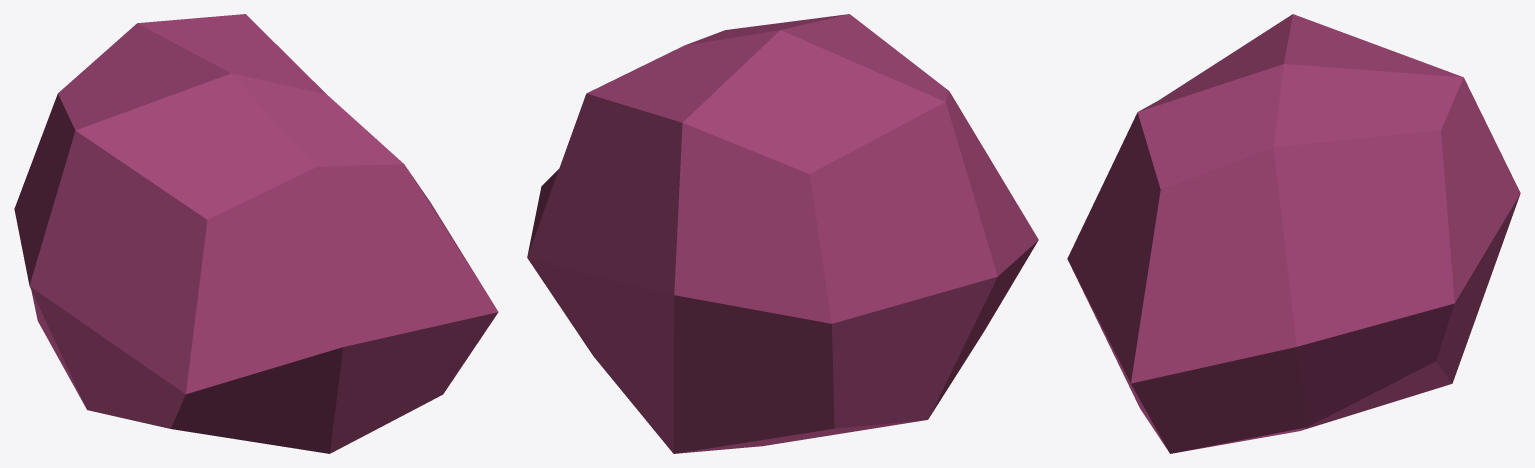
Rendered from tas_cal_buyuk.fbx.
3 views of the same model, side by side, from view 1: azimuth 30°, elevation 25°; view 2: azimuth 150°, elevation 25°; view 3: azimuth 270°, elevation 25° (orthographic). The views are drawn at different scales.
Parts seen in each view (by area): view 1: Cube.012; view 2: Cube.012; view 3: Cube.012.
Part boxes in pixels (<box>): Cube.012: <box>14,14,498,453</box>; Cube.012: <box>527,14,1038,453</box>; Cube.012: <box>1067,14,1520,453</box>.
Bounding box in the file's own units: 280 × 243 × 275.
